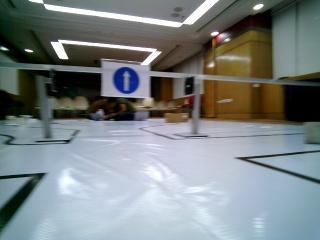straight: (102, 58, 149, 98)
